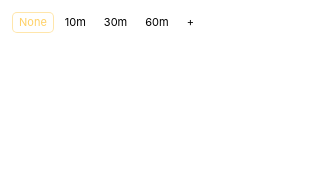
Test: TimerPresetPicker › rejects a duration under 1 minute
Click the button named "add timer" at (190, 22), box [180,12,201,33]
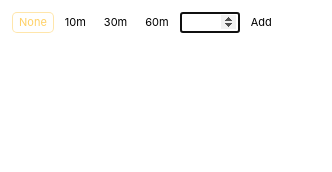
Type "0" into the number field named "custom timer minutes" at (210, 22), box [180,12,240,33]
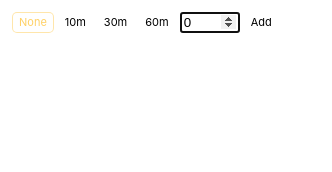
Click the button "Add" at (261, 22), box [244,12,279,33]
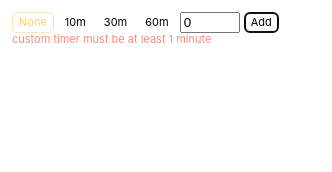
Expected: the message shows "at least 1 minute", [12,32,211,46]
